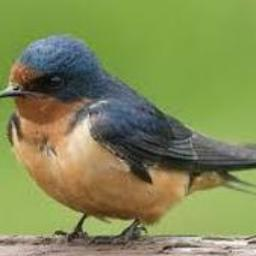Swallow: (0, 34, 256, 238)
